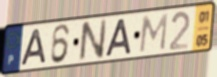2: (168, 10, 191, 52)
6: (50, 22, 71, 66)
A: (104, 17, 133, 59), (19, 27, 48, 68)
M: (138, 12, 170, 54)
N: (78, 17, 109, 64)
